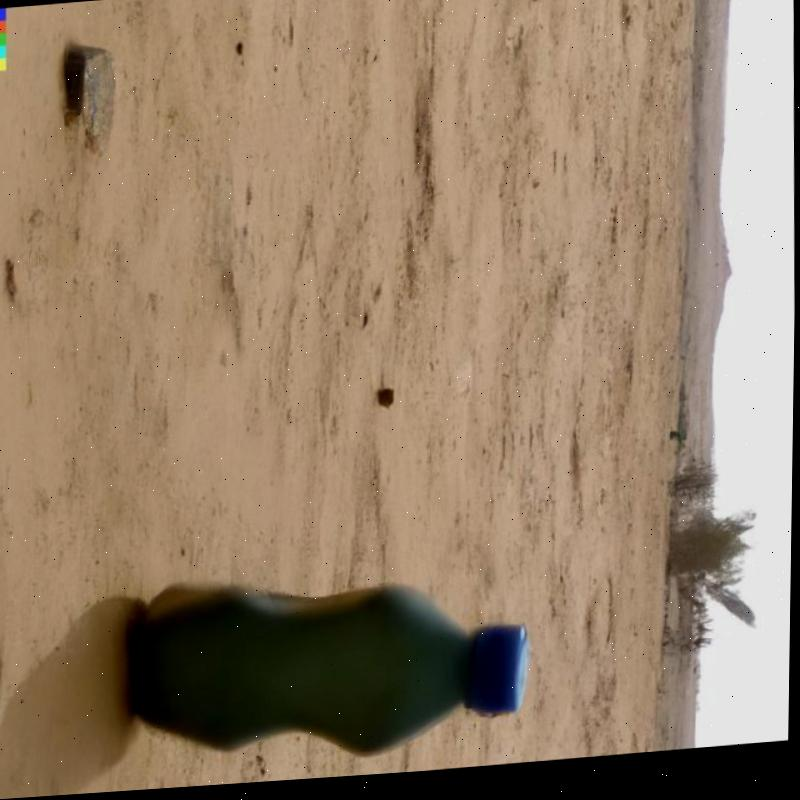botella: (127, 557, 532, 779)
